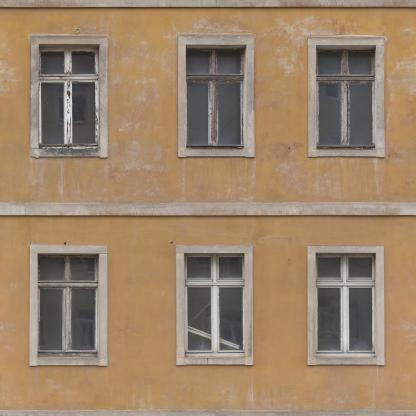Building Outline: (0, 0, 415, 415)
Facade: (0, 0, 415, 415)
Floor: (1, 0, 415, 203), (1, 216, 415, 415)
Floor Slab: (1, 203, 415, 216)
Window: (39, 44, 99, 148), (185, 253, 245, 357), (316, 254, 376, 357), (316, 45, 376, 148), (38, 254, 98, 357), (186, 44, 246, 147)
